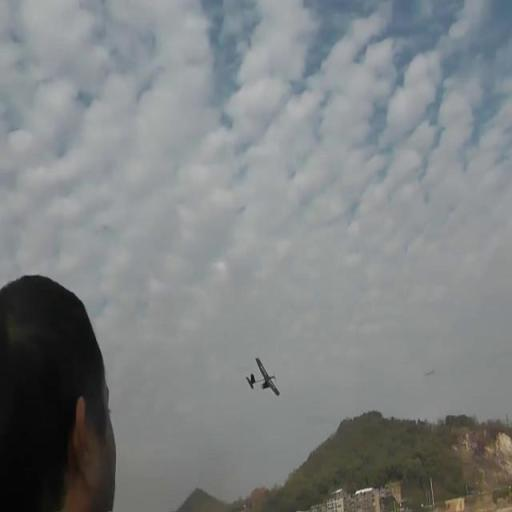uav: (246, 359, 280, 396)
